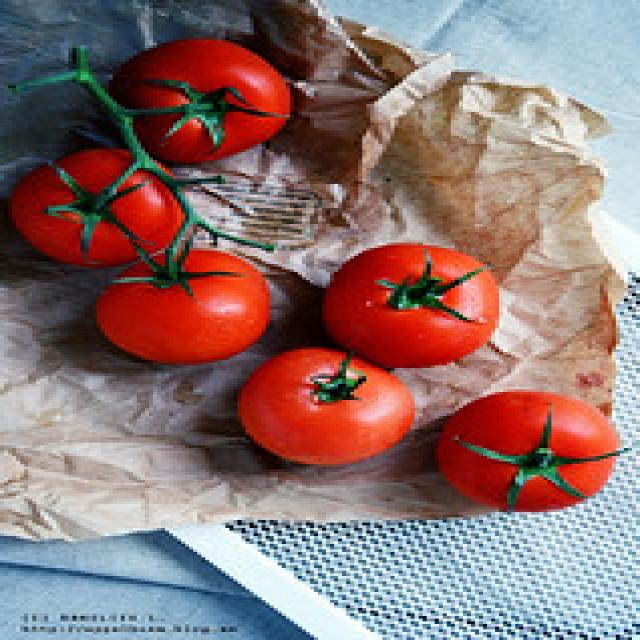Tomato: (428, 386, 630, 523), (102, 36, 296, 166), (317, 241, 503, 371), (5, 148, 200, 270), (233, 346, 421, 468), (92, 244, 276, 368)
